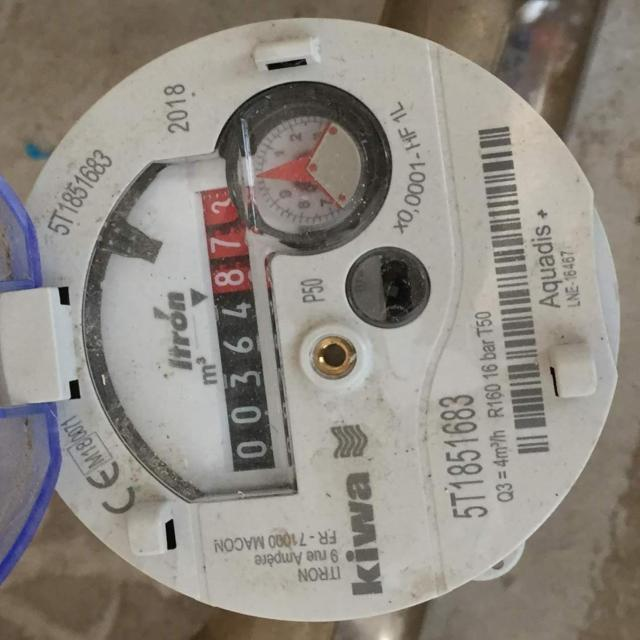gaz_meter: (18, 15, 622, 623)
indication: (190, 176, 282, 476)
